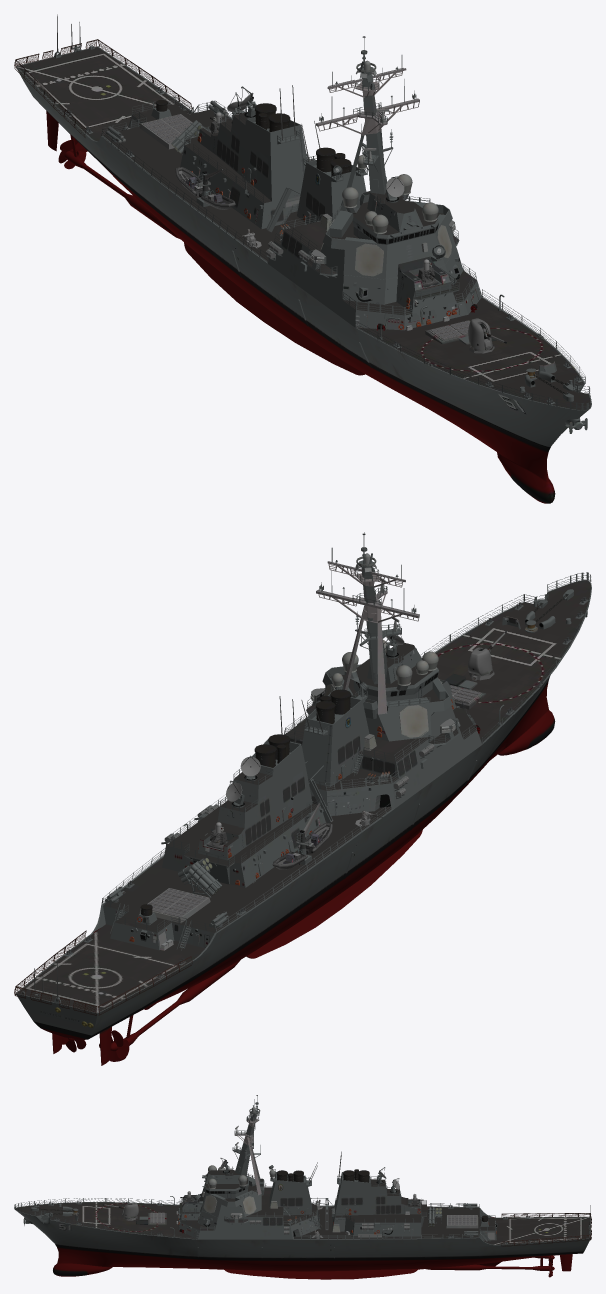
The picture shows the model from 3 angles, top to bottom: view 1: azimuth 30°, elevation 25°; view 2: azimuth 150°, elevation 25°; view 3: azimuth 270°, elevation 25°; orthographic projection. The views are drawn at different scales.
Visible parts, largest first — view 1: Object_6, Object_12, Object_14; view 2: Object_6, Object_14, Object_12; view 3: Object_6, Object_14.
Part boxes in pixels (x1,y1,x2,y2): Object_6: [14, 14, 591, 503]; Object_12: [175, 167, 235, 209]; Object_14: [227, 86, 404, 202]; Object_6: [14, 532, 591, 1065]; Object_14: [226, 624, 404, 807]; Object_12: [272, 822, 332, 869]; Object_6: [14, 1095, 591, 1279]; Object_14: [220, 1158, 399, 1193].
Size of the model in its own units: 24.73 by 53.44 by 154.
5 materials, 5 textured.
